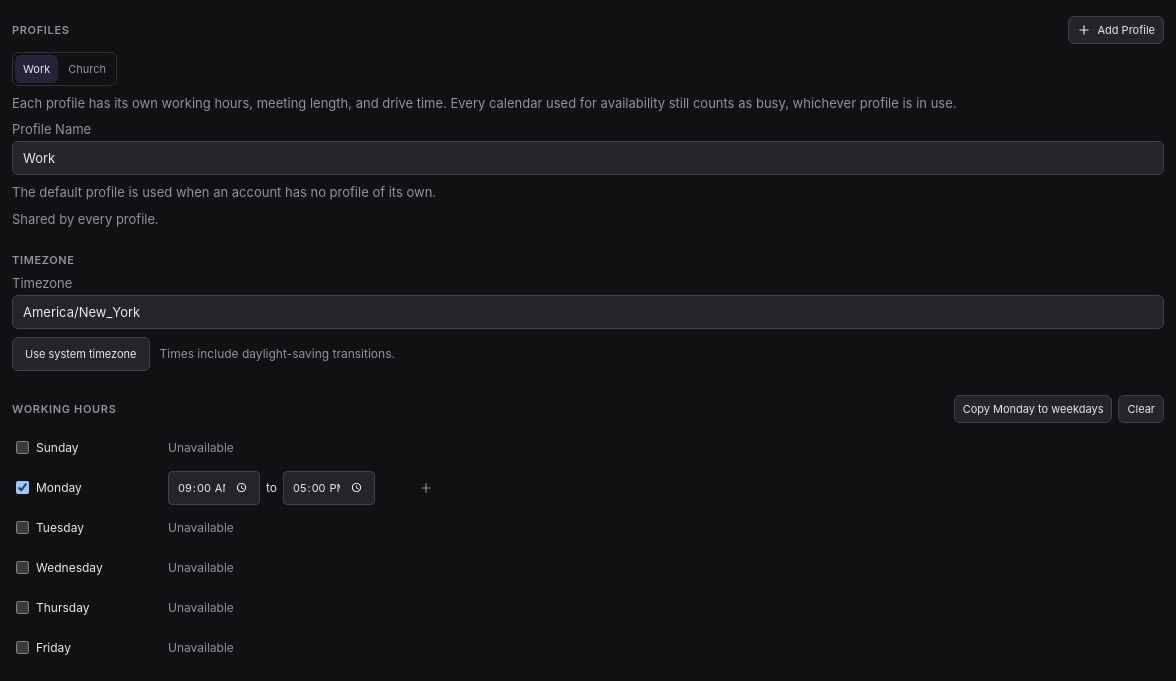
Test case: AvailabilitySettings profiles › renames a profile, refusing a name another profile has
Click the button "Church" at (87, 69), box [60,55,114,83]
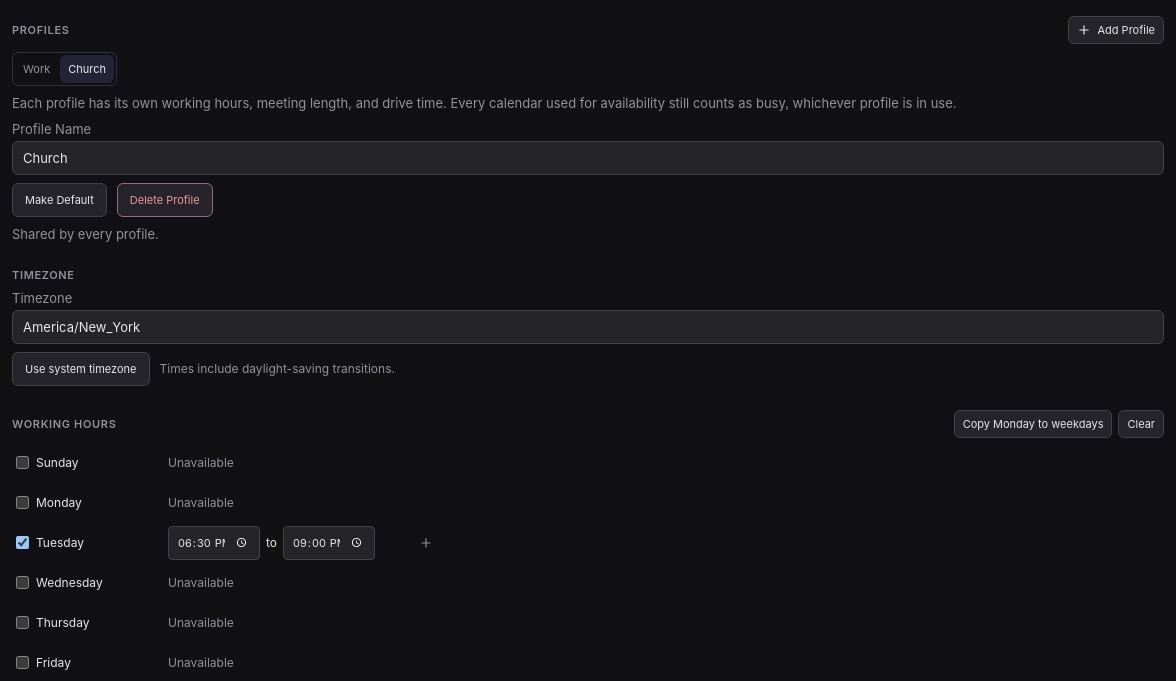
Replace the text in the field labelled "Profile Name" with "work " at (588, 158), box [12,141,1164,175]
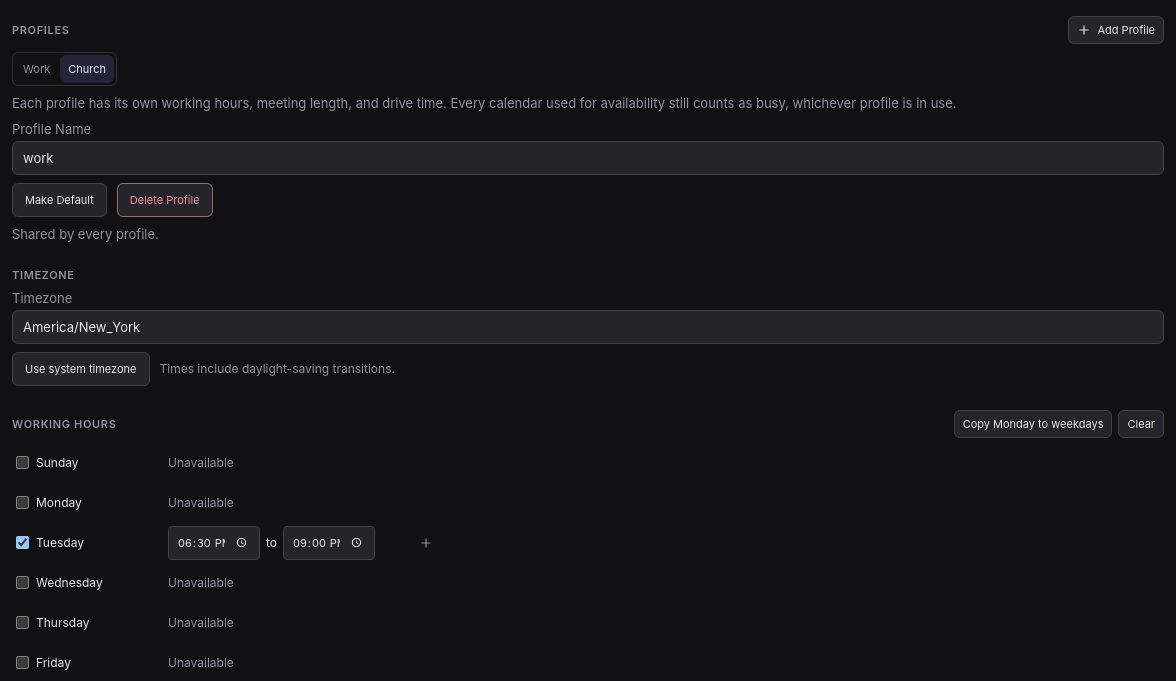
Leave the field labelled "Profile Name", box [12,141,1164,175]
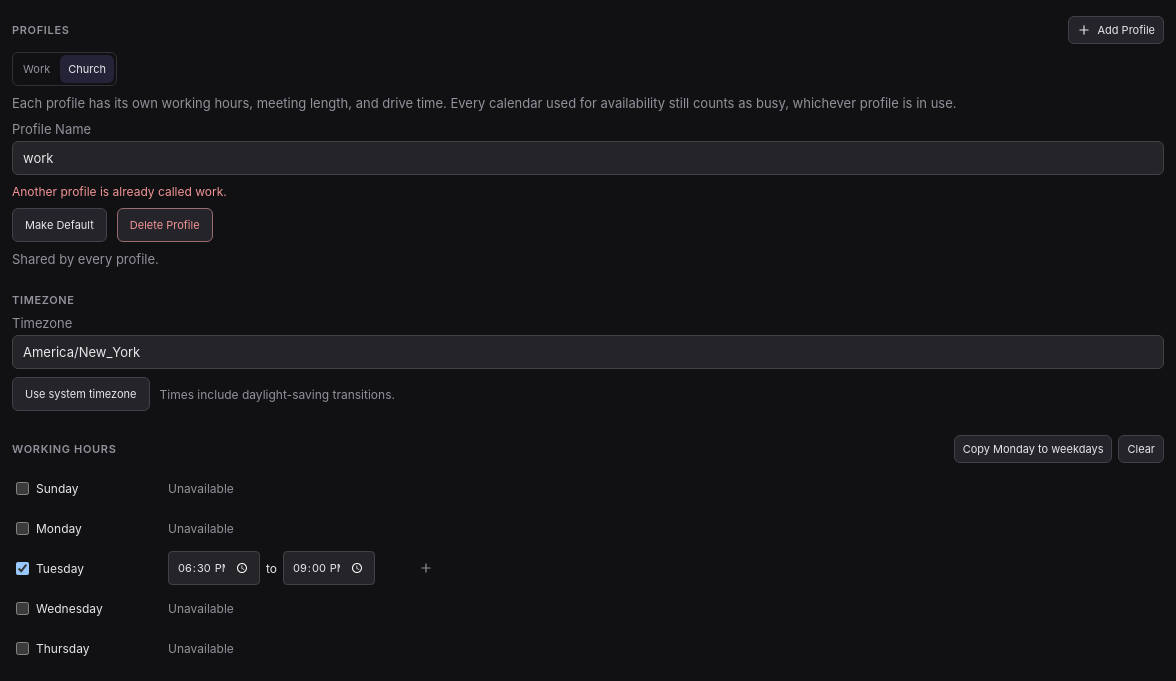
Result: the message "Another profile is already called work." is shown at [12,183,227,200]
Replace the text in the field labelled "Profile Name" with " Elders " at (588, 158), box [12,141,1164,175]
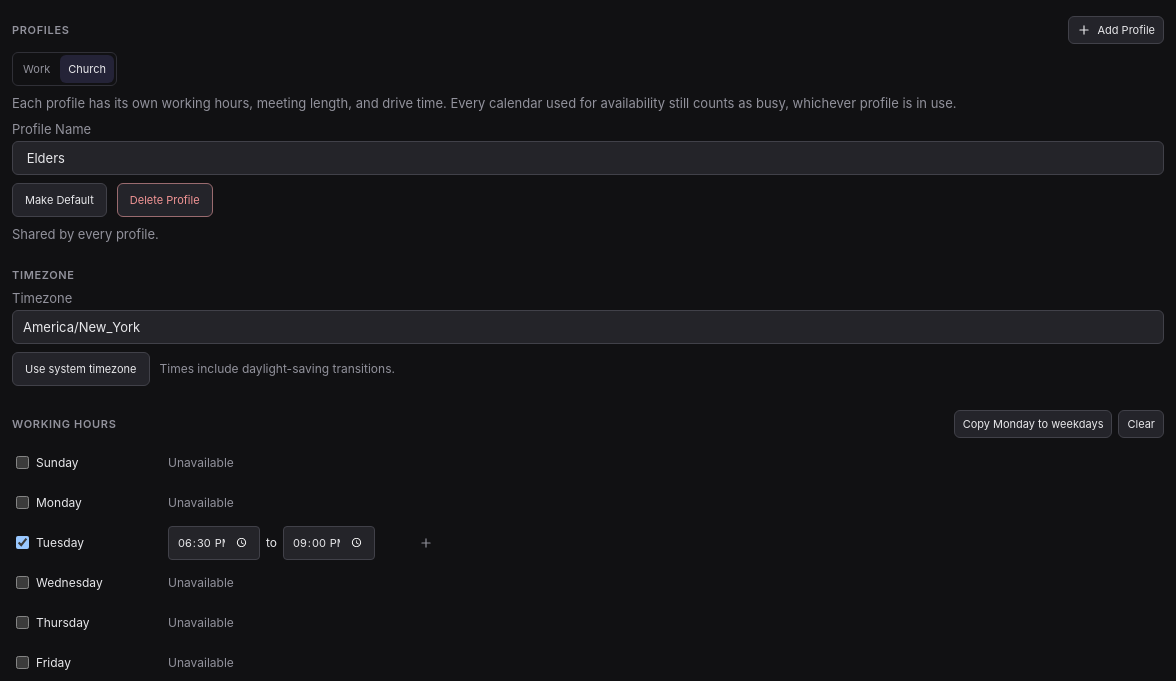
Press Enter in the field labelled "Profile Name", box [12,141,1164,175]
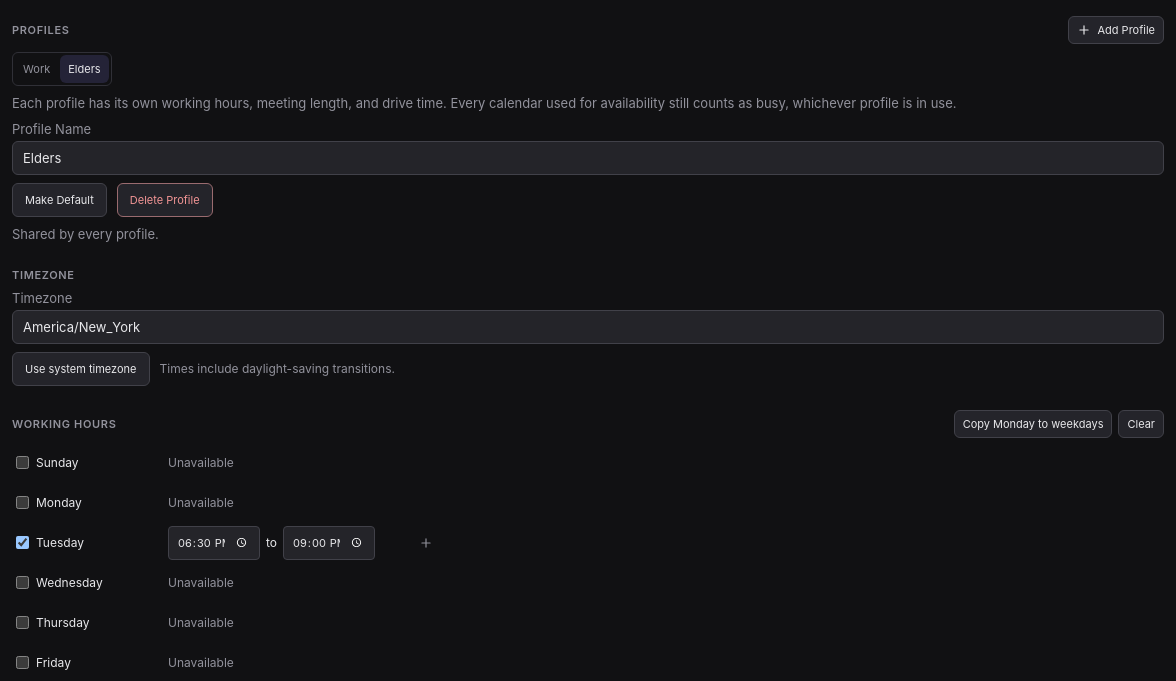
Expected: the message "Another profile is already called work." is not shown
Result: the button named "Church" reads "Elders" at [60,55,109,83]
